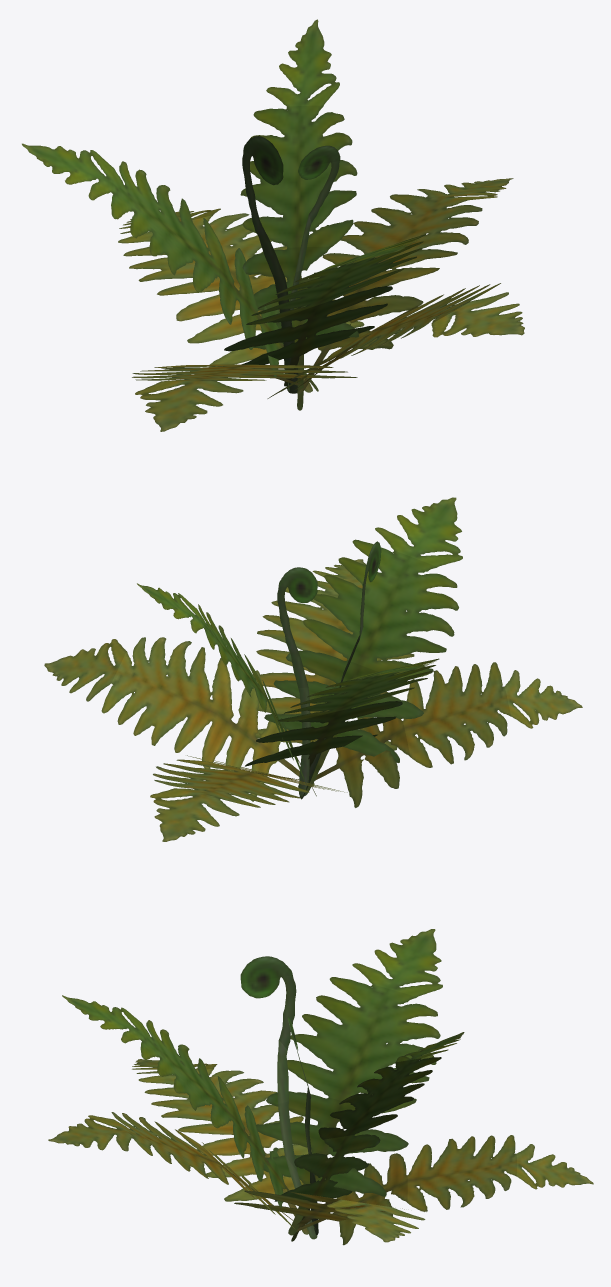
The model's file is scene_shenmisenlin_zhiwu02.FBX.
3 renders of one model, top to bottom at view 1: azimuth 30°, elevation 25°; view 2: azimuth 150°, elevation 25°; view 3: azimuth 270°, elevation 25°, orthographic. The views are drawn at different scales.
Parts seen in each view (by area): view 1: scene_shenmisenlin_zhiwu02; view 2: scene_shenmisenlin_zhiwu02; view 3: scene_shenmisenlin_zhiwu02.
Part boxes in pixels (x1=…): scene_shenmisenlin_zhiwu02: x1=22, y1=19, x2=524, y2=431; scene_shenmisenlin_zhiwu02: x1=44, y1=497, x2=582, y2=841; scene_shenmisenlin_zhiwu02: x1=48, y1=929, x2=593, y2=1245.
Size of the model in its own units: 175 by 111 by 175.
